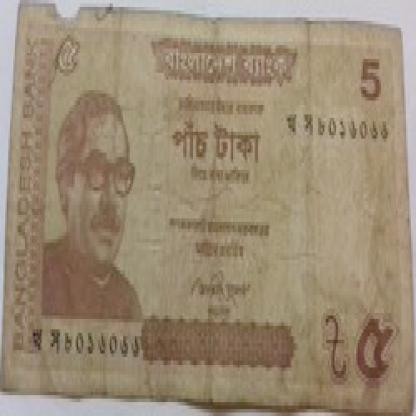Five Taka: (164, 104, 264, 170), (353, 305, 399, 385), (53, 24, 90, 104), (356, 45, 386, 114)
